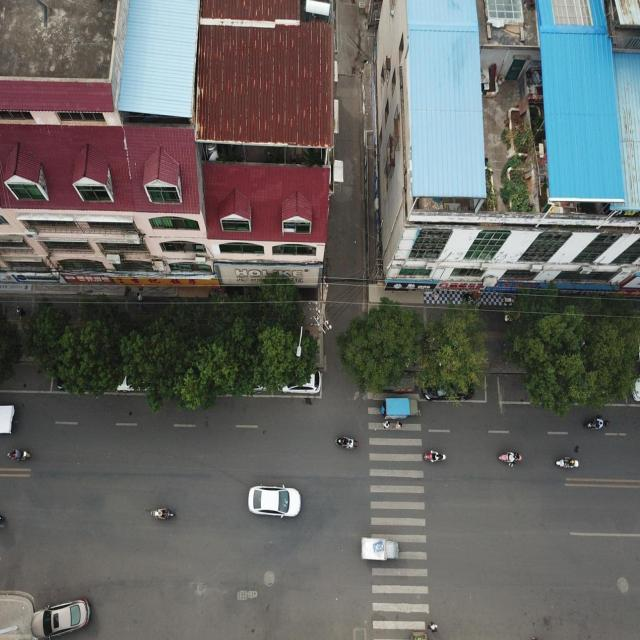p3rson: (16, 305, 27, 318), (136, 303, 148, 314), (426, 621, 436, 632), (392, 420, 402, 429), (380, 404, 386, 418), (137, 291, 143, 304), (382, 419, 388, 428)
